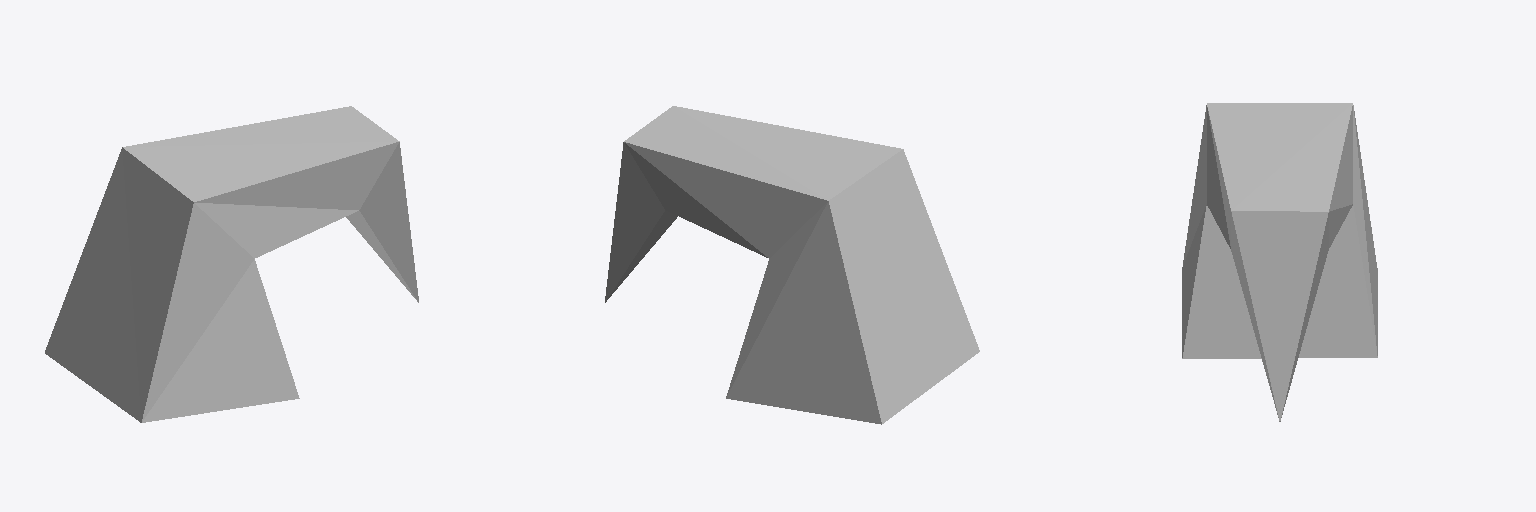
Rendered from skeletal_000017.obj.
3 views of the same model, side by side, from view 1: azimuth 30°, elevation 25°; view 2: azimuth 150°, elevation 25°; view 3: azimuth 270°, elevation 25° (orthographic).
Parts seen in each view (by area): view 1: Cube; view 2: Cube; view 3: Cube.
Boxes of the visible parts, <box> form: Cube: <box>45,106,418,422</box>; Cube: <box>605,106,979,424</box>; Cube: <box>1182,103,1377,421</box>.
Bounding box in the file's own units: 3.86 × 2.39 × 2.